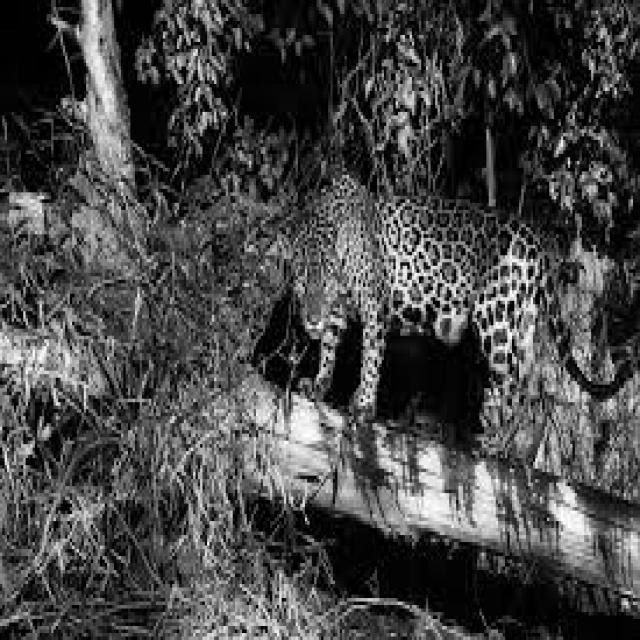Jaguar: (288, 171, 566, 420)
